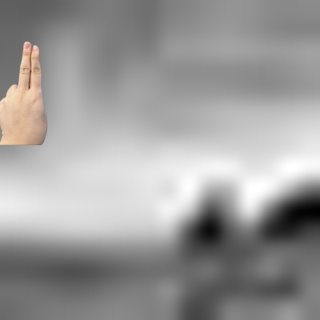DHAVE: (1, 34, 49, 143)
